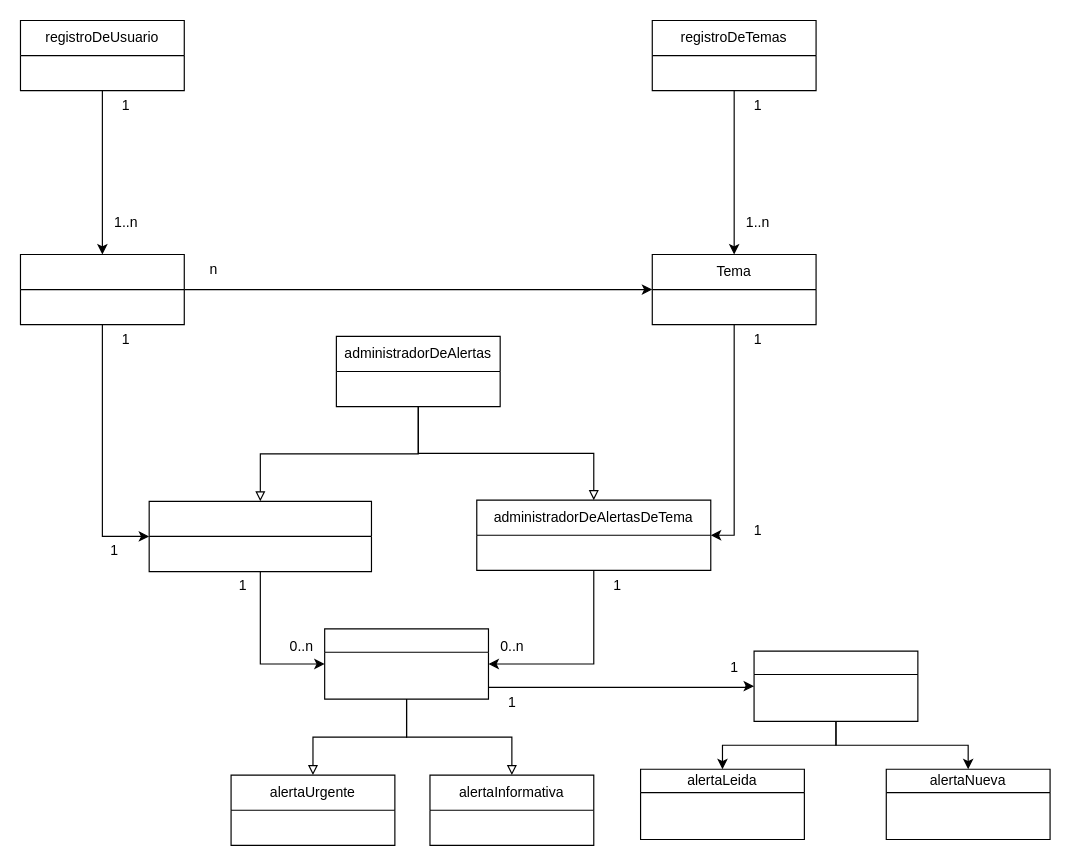
Image size: 1071x866. Some labels were removed from this diagram. Here are the shapes that lost their labels. From the top down, the centre of each, then its label:
the point at 101,289: Ususario
the point at 259,536: administradorDeAlertasDeUsuario
the point at 406,663: alerta
the point at 835,685: alertaState
